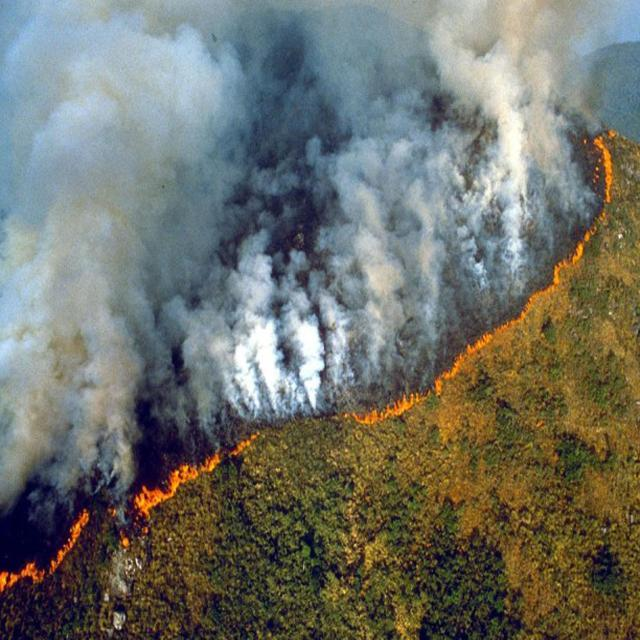Smoke: (1, 2, 596, 538)
